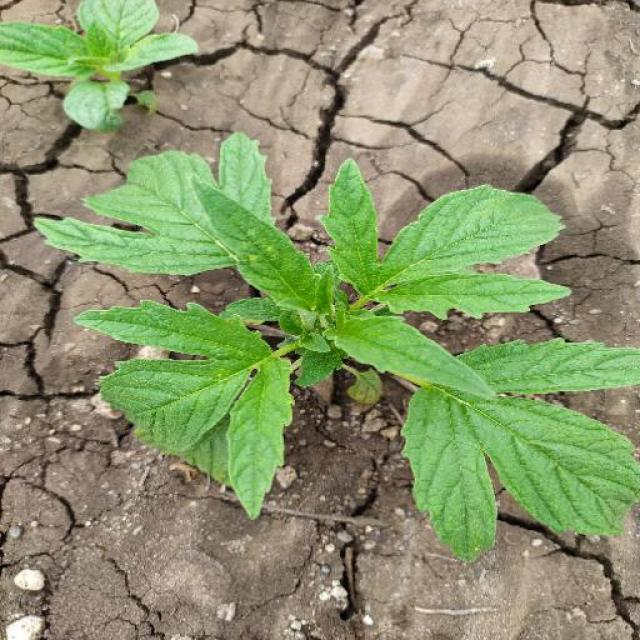crop: (21, 131, 640, 545), (1, 2, 209, 130)
